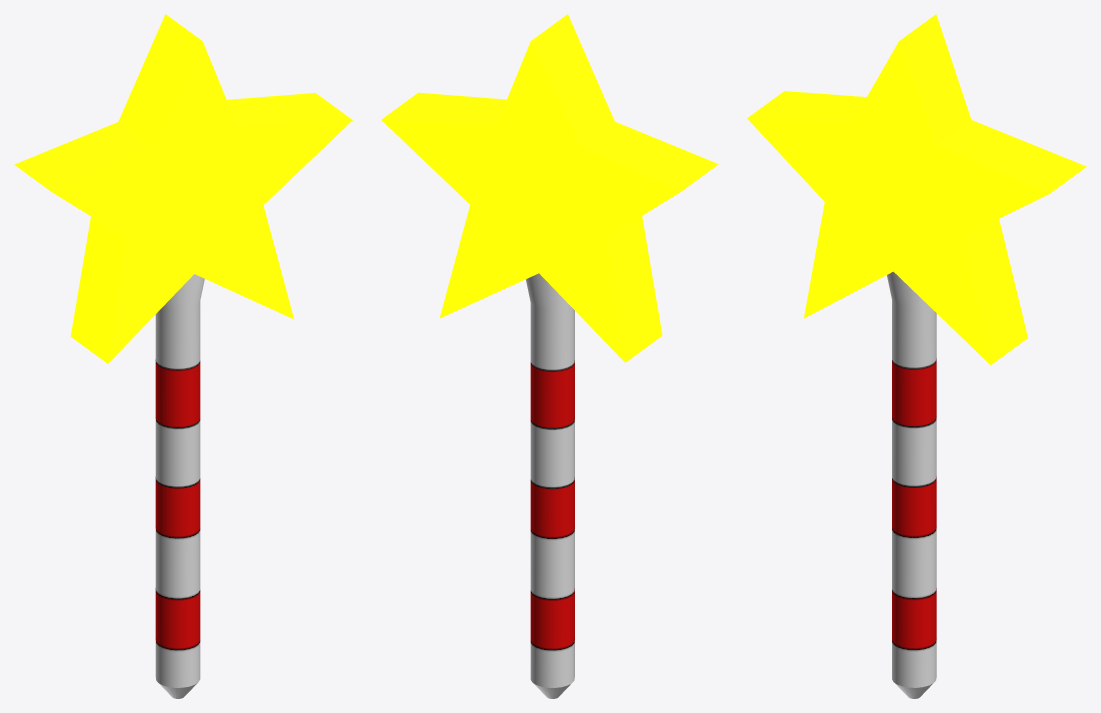
The model's file is Varita 2.fbx.
The picture shows the model from 3 angles, left to right: view 1: azimuth 30°, elevation 25°; view 2: azimuth 150°, elevation 25°; view 3: azimuth 330°, elevation 25°; orthographic projection.
Visible parts, largest first — view 1: StarWand; view 2: StarWand; view 3: StarWand.
Part boxes in pixels (box(x1,y1,x2,y2)): StarWand: box(14, 14, 352, 698); StarWand: box(381, 14, 718, 698); StarWand: box(747, 14, 1086, 698).
Bounding box in the file's own units: 197 × 418 × 42.22.
